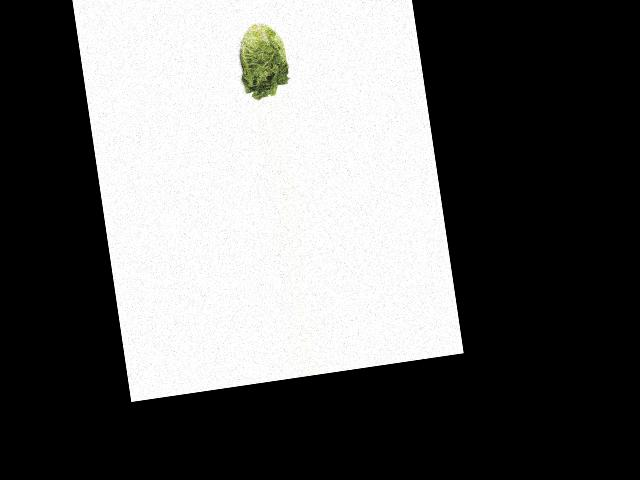lettuce: (231, 18, 296, 100)
